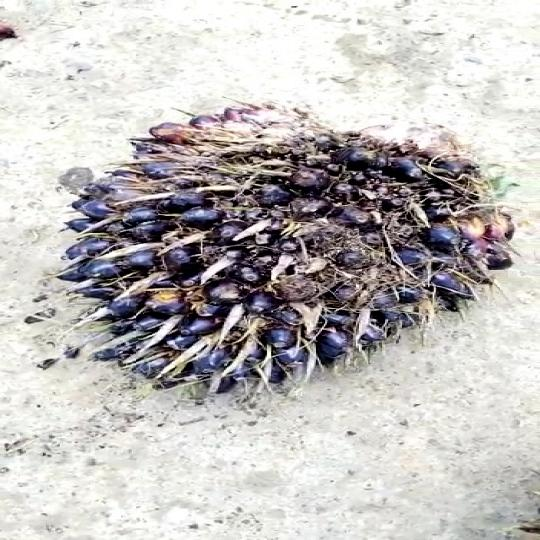mentah: (63, 90, 532, 413)
